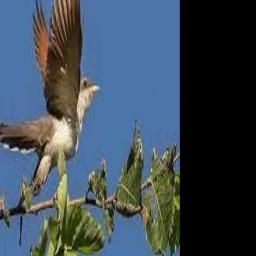Cuckoo: (0, 0, 101, 191)
